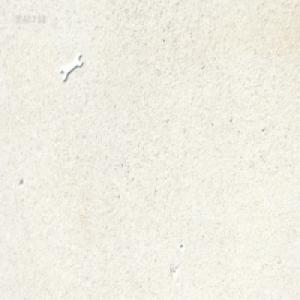Wrench: (60, 50, 83, 81)
